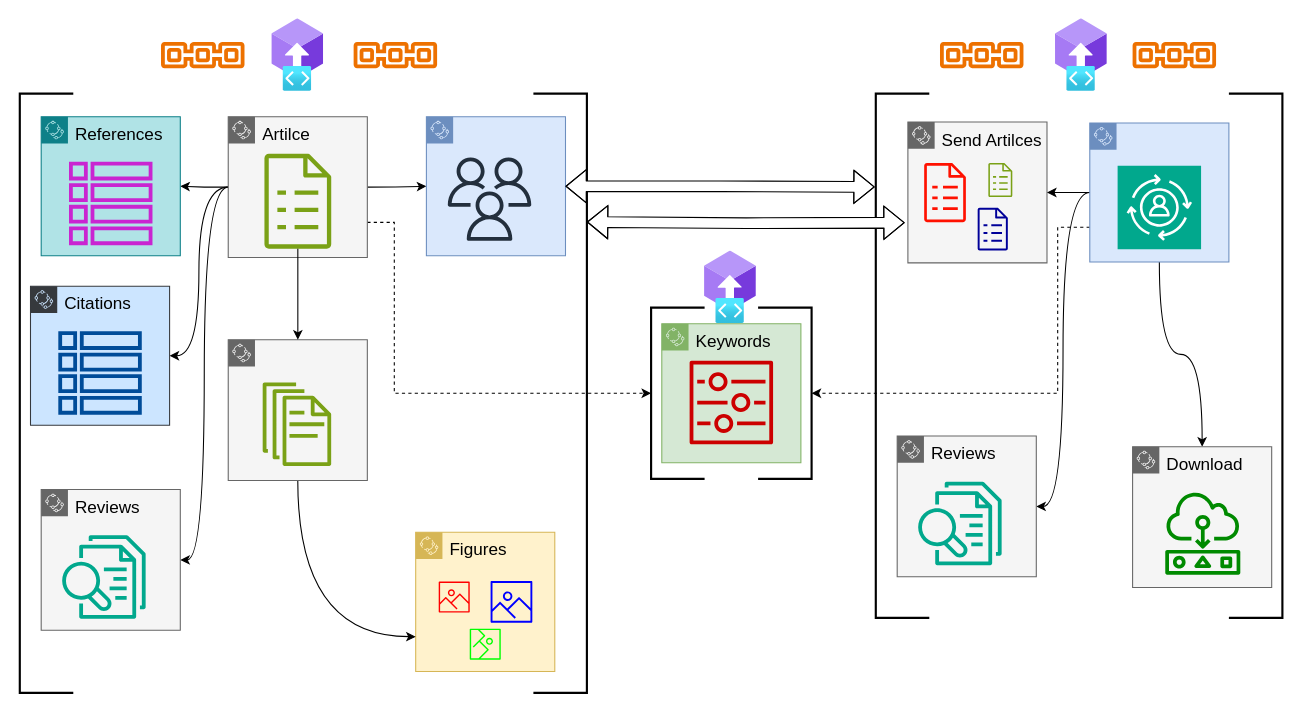
Image size: 1301x712. Some labels were removed from this diagram. The shapes that lost their labels are listed below. From the top down, each one's box as (x1, y1, x2, y2) in pixels, then its label:
(264, 153, 331, 248): Title Abstract
(425, 116, 565, 256): Authors
(1089, 122, 1229, 262): User
(227, 339, 367, 481): Sections
